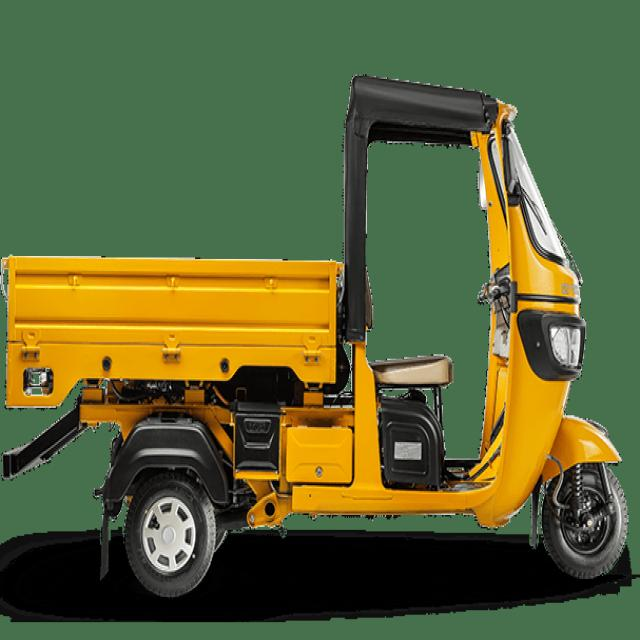autorickshaw: (2, 78, 628, 596)
